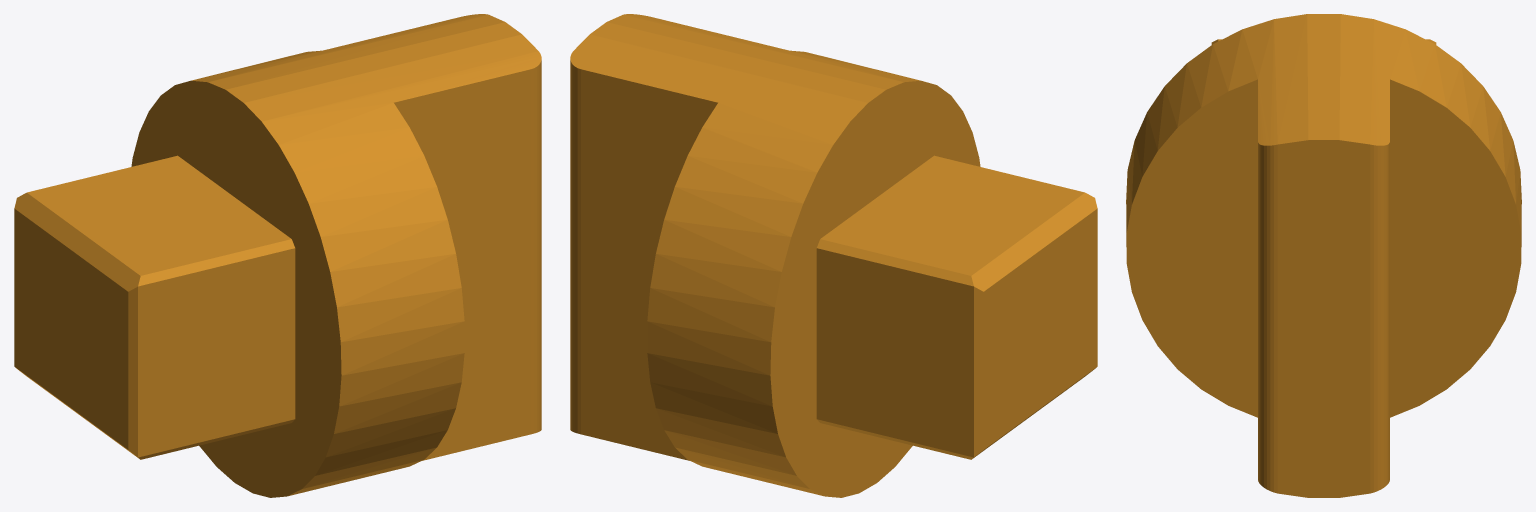
File: yaw.dae
3 views of the same model, side by side, from view 1: azimuth 30°, elevation 25°; view 2: azimuth 150°, elevation 25°; view 3: azimuth 270°, elevation 25° (orthographic). The views are drawn at different scales.
Visible parts, largest first — view 1: _; view 2: _; view 3: _.
Part boxes in pixels (bbox=[...]): _: bbox=[14, 14, 541, 497]; _: bbox=[570, 14, 1097, 497]; _: bbox=[1126, 14, 1521, 497].
Size of the model in its own units: 0.0718 by 0.06 by 0.0599.
